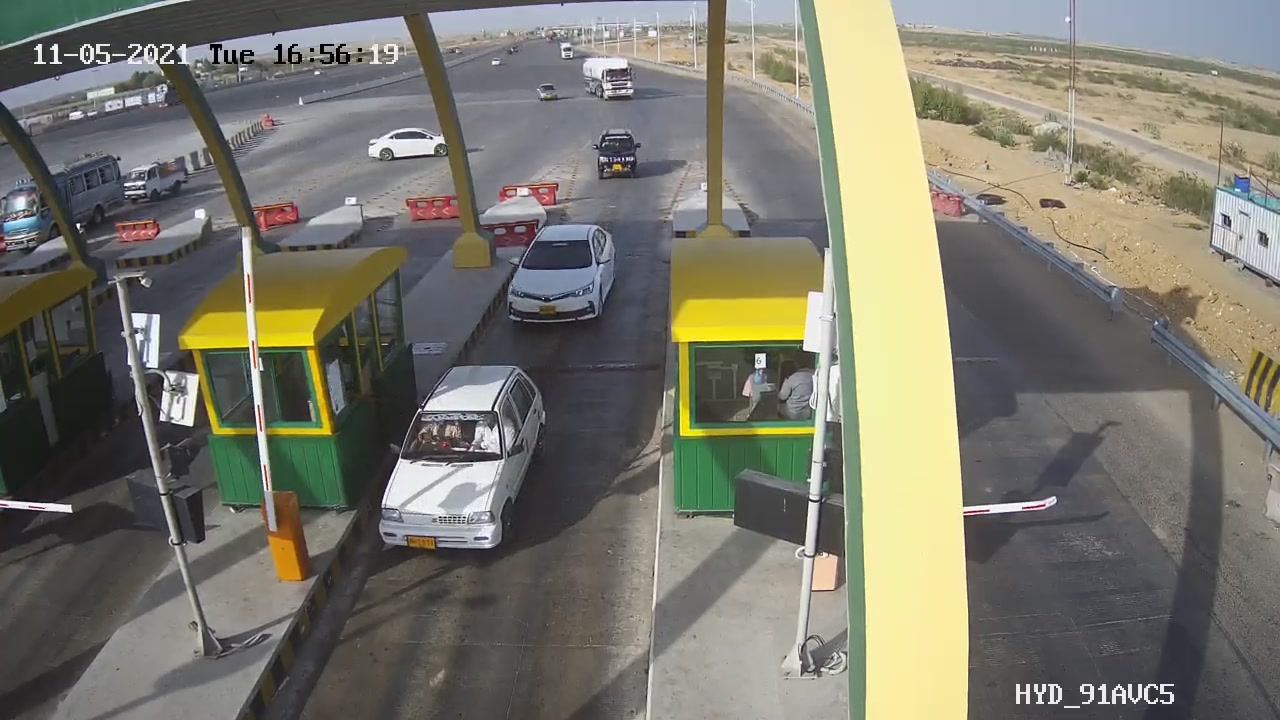F1: (362, 349, 563, 576), (491, 210, 637, 342)
